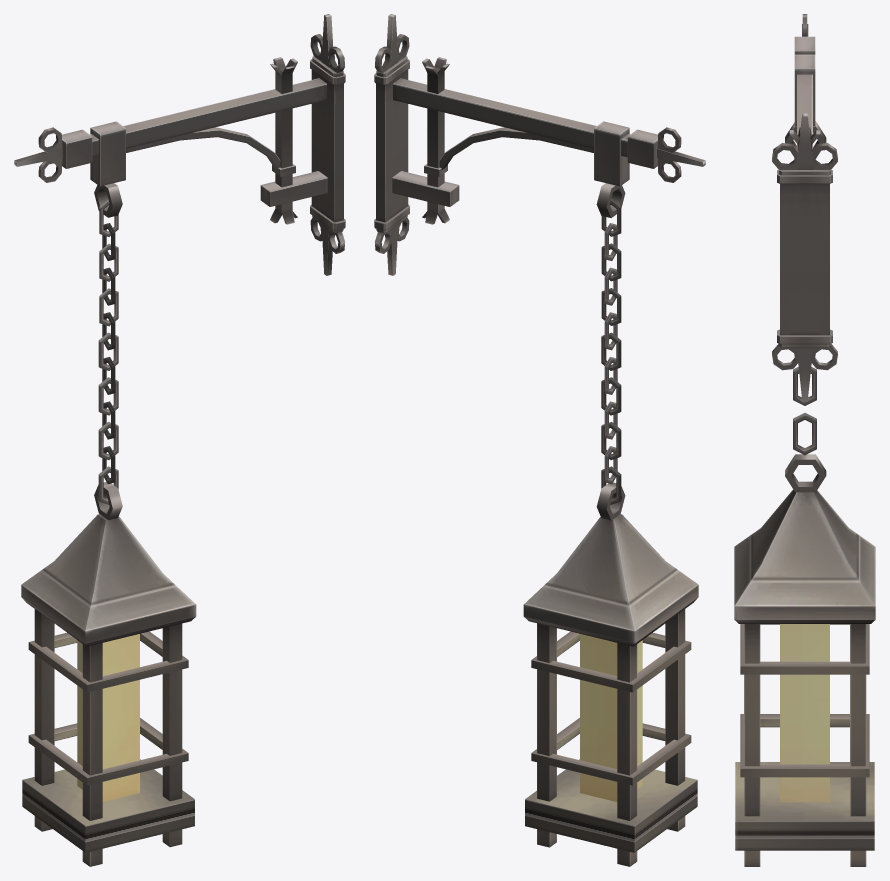
The model's file is my_wildhunt_01_light_01.glb.
The picture shows the model from 3 angles, left to right: view 1: azimuth 30°, elevation 25°; view 2: azimuth 150°, elevation 25°; view 3: azimuth 270°, elevation 25°; orthographic projection. The views are drawn at different scales.
Visible parts, largest first — view 1: my_wildhunt_01_light_01; view 2: my_wildhunt_01_light_01; view 3: my_wildhunt_01_light_01.
Part boxes in pixels (box(x1,y1,x2,y2)): my_wildhunt_01_light_01: box(14, 14, 345, 866); my_wildhunt_01_light_01: box(374, 14, 705, 866); my_wildhunt_01_light_01: box(734, 14, 875, 866).
Size of the model in its own units: 0.00592 by 0.0136 by 0.00206.
Materials: 1 (1 with a texture image).
